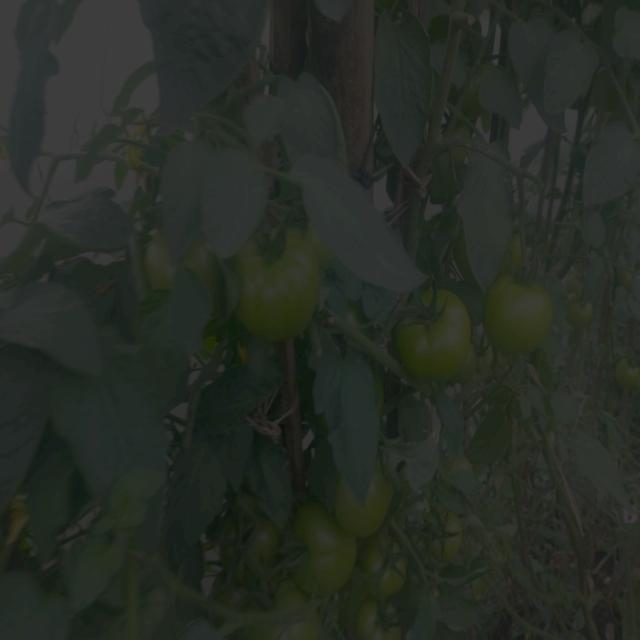tomato: (207, 511, 331, 639), (236, 232, 336, 338), (394, 294, 471, 387), (144, 227, 216, 315), (334, 454, 397, 535), (494, 274, 553, 359), (451, 57, 502, 108), (355, 600, 417, 640), (427, 506, 469, 564), (437, 446, 481, 494), (369, 540, 411, 590), (498, 226, 544, 268), (437, 116, 476, 164), (572, 274, 601, 336), (612, 355, 640, 401), (615, 259, 639, 303)
